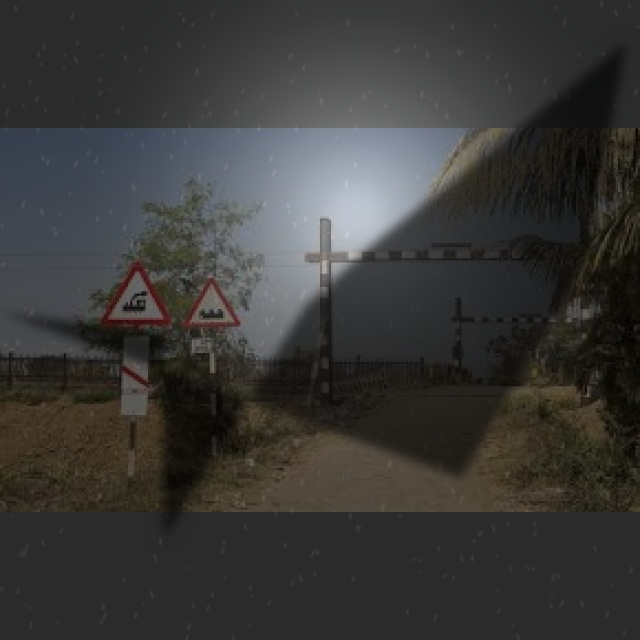Unguarded_Level_Crossing: (104, 253, 171, 334)
